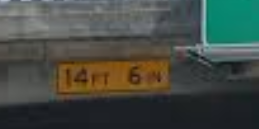1: (63, 66, 73, 91)
4: (72, 66, 89, 90)
6: (124, 63, 143, 88)
overheadsign: (54, 59, 171, 94)
